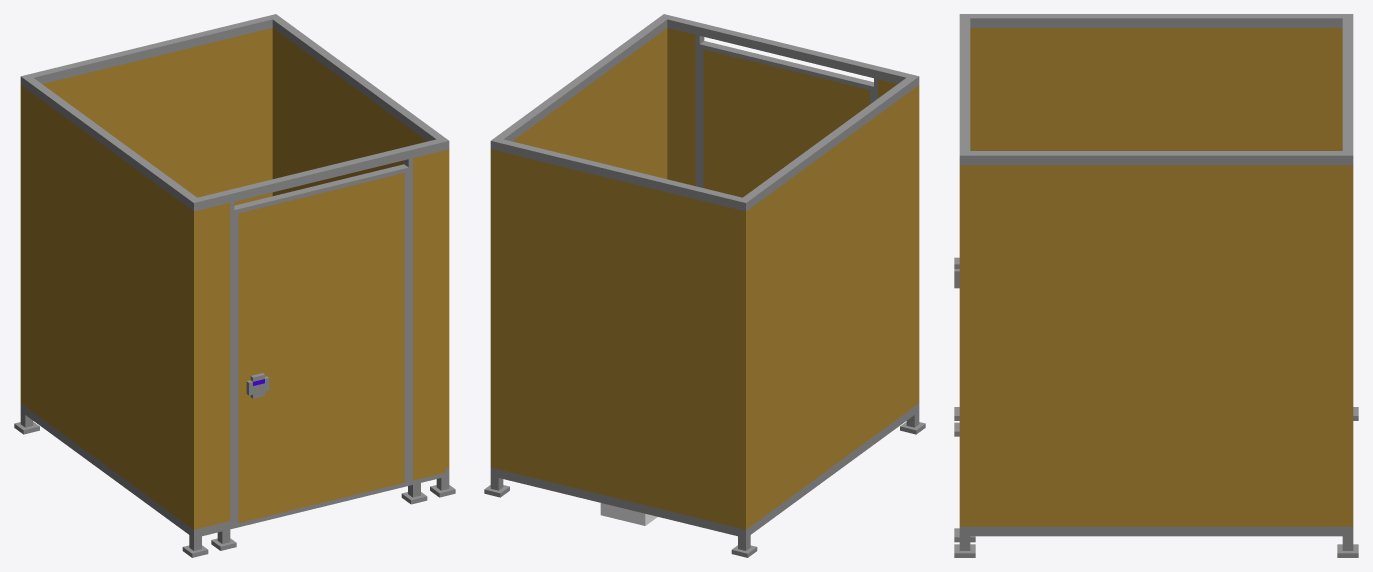
File: Toilet1-5.fbx
3 views of the same model, side by side, from view 1: azimuth 30°, elevation 25°; view 2: azimuth 150°, elevation 25°; view 3: azimuth 270°, elevation 25° (orthographic). The views are drawn at different scales.
Parts seen in each view (by area): view 1: Toilet1-5.000, Toilet1-5.001; view 2: Toilet1-5.000, Toilet1-5.001; view 3: Toilet1-5.000.
Boxes of the visible parts, bbox=[...] form: Toilet1-5.000: bbox=[14, 14, 455, 557]; Toilet1-5.001: bbox=[234, 164, 408, 528]; Toilet1-5.000: bbox=[484, 14, 925, 557]; Toilet1-5.001: bbox=[699, 41, 873, 197]; Toilet1-5.000: bbox=[954, 14, 1358, 557].
Bounding box in the file's own units: 6.5 × 8.3 × 7.6.
